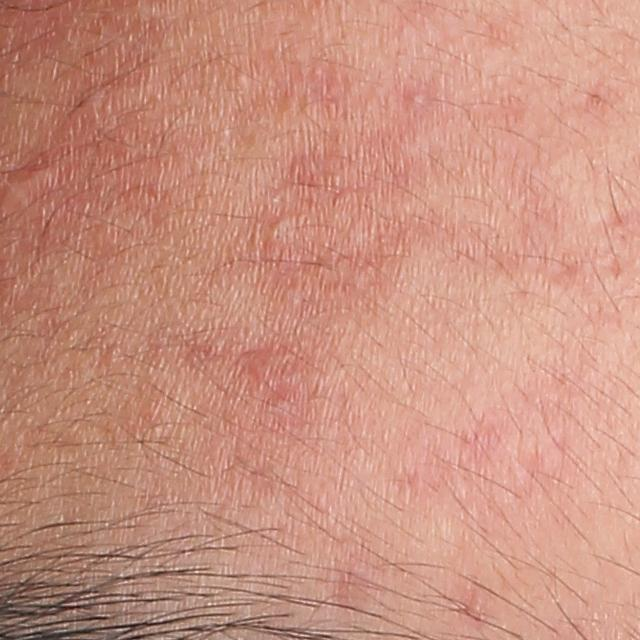comedo: (266, 212, 298, 241), (407, 84, 427, 105)
